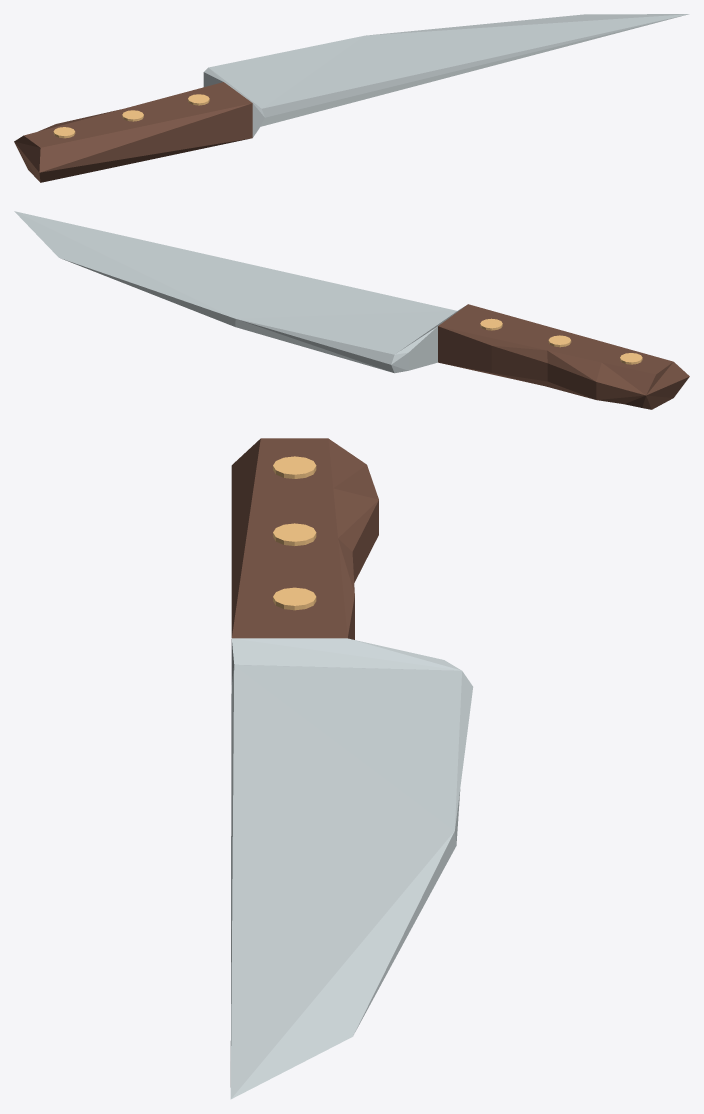
The model's file is knife.glb.
3 views of the same model, one above another, from view 1: azimuth 30°, elevation 25°; view 2: azimuth 150°, elevation 25°; view 3: azimuth 270°, elevation 25° (orthographic). The views are drawn at different scales.
Visible parts, largest first — view 1: group1203061558; view 2: group1203061558; view 3: group1203061558.
Boxes of the visible parts, x1,y1,x2,y2 form: group1203061558: [14, 14, 689, 182]; group1203061558: [14, 211, 689, 409]; group1203061558: [230, 438, 473, 1099].
Bounding box in the file's own units: 1.55 × 0.09 × 0.2511.
